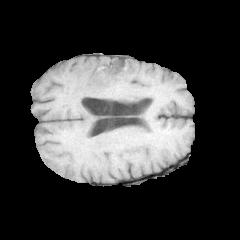glioma: (71, 58, 142, 98)
